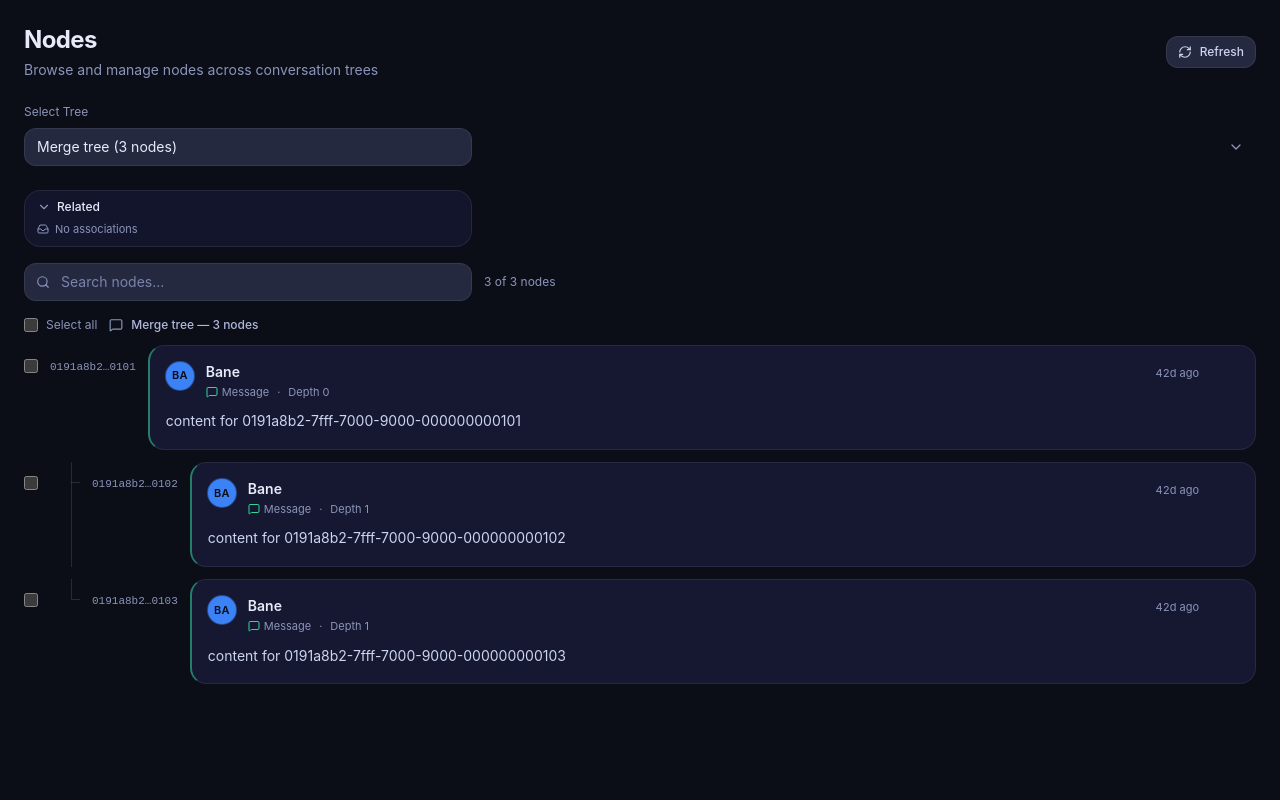
NodesPage — bulk merge › enables Merge at 2 selected rows and disables it at 1
The image size is (1280, 800).
What coordinates should you click on to do the following:
click the 1st checkbox with test id "node-row-checkbox"
I would click on:
 (31, 366)
Its box is top-left (24, 358), bottom-right (38, 372).
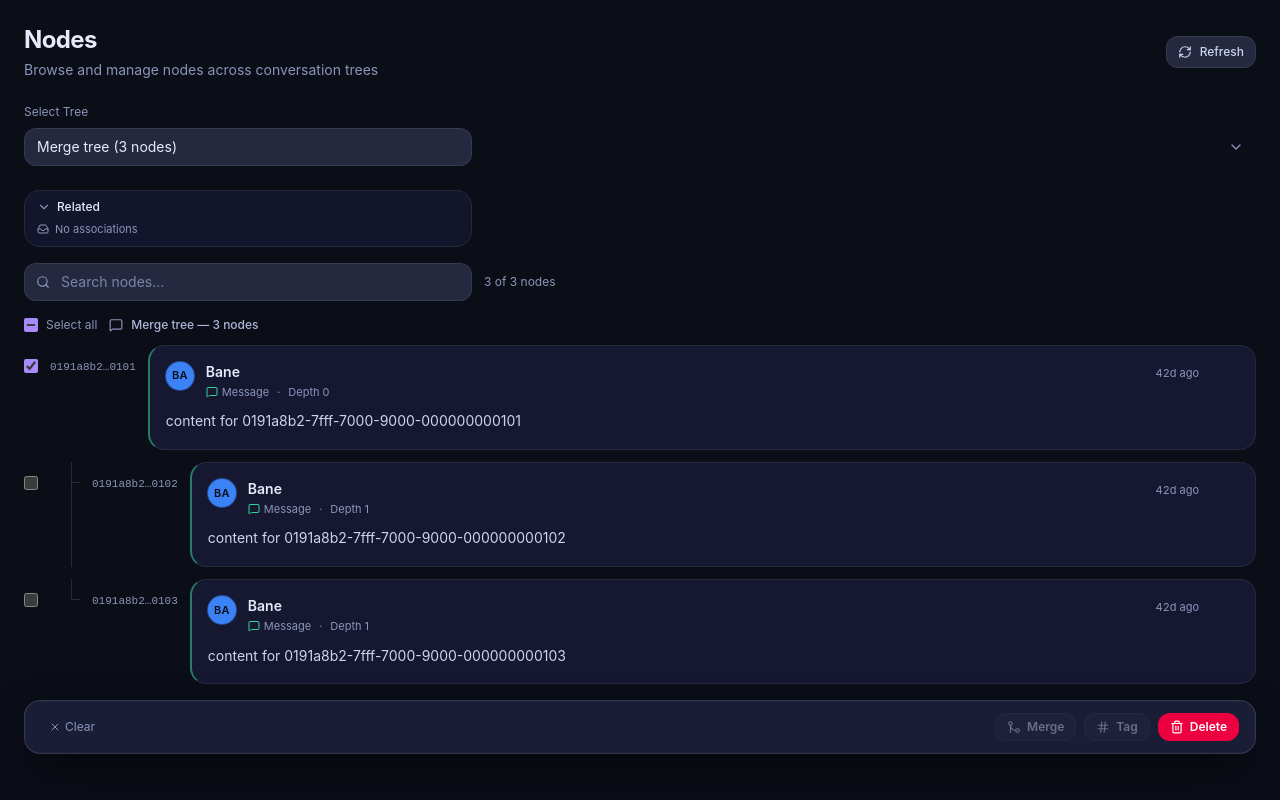
Expected: the button with test id "bulk-action-merge" is disabled, top-left (995, 713), bottom-right (1076, 741)
What coordinates should you click on to do the following:
click the 2nd checkbox with test id "node-row-checkbox"
I would click on:
 (31, 483)
Its box is top-left (24, 476), bottom-right (38, 490).
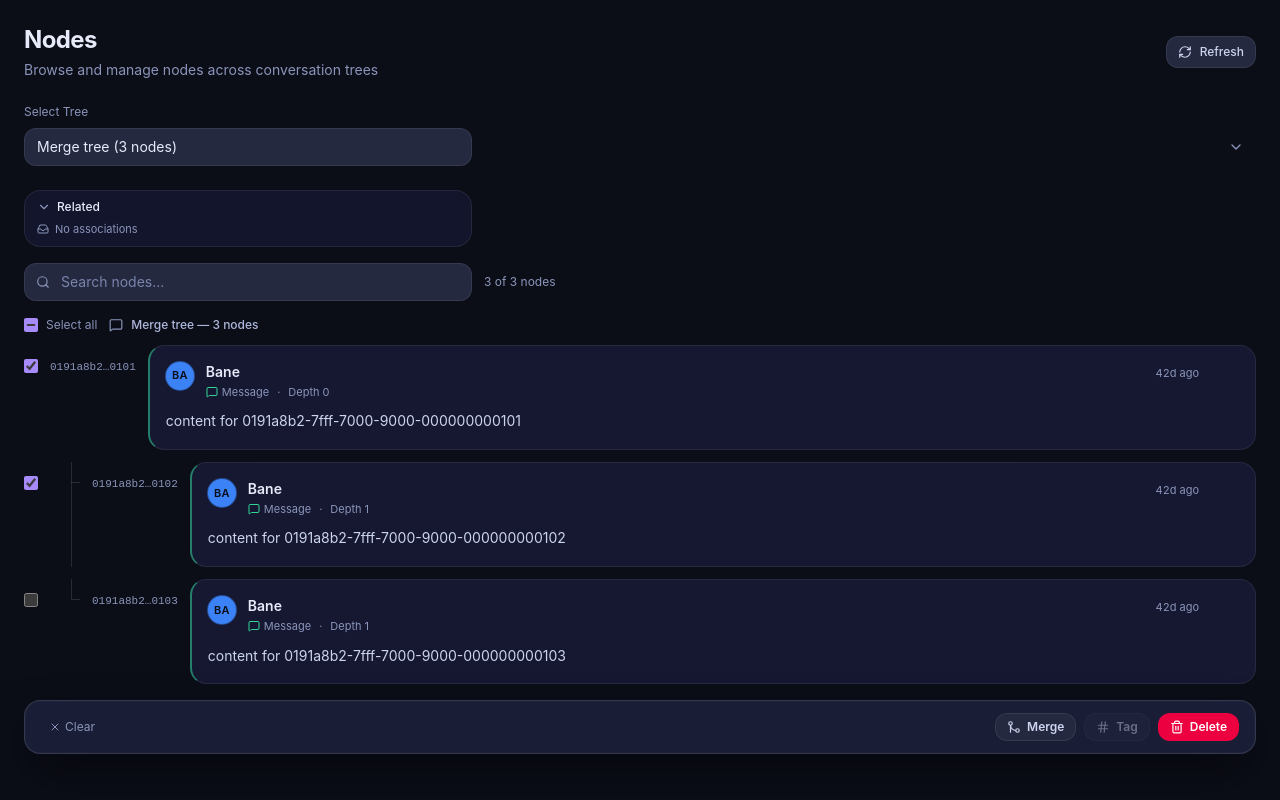
Expected: the button with test id "bulk-action-merge" is enabled, top-left (995, 713), bottom-right (1076, 741)
